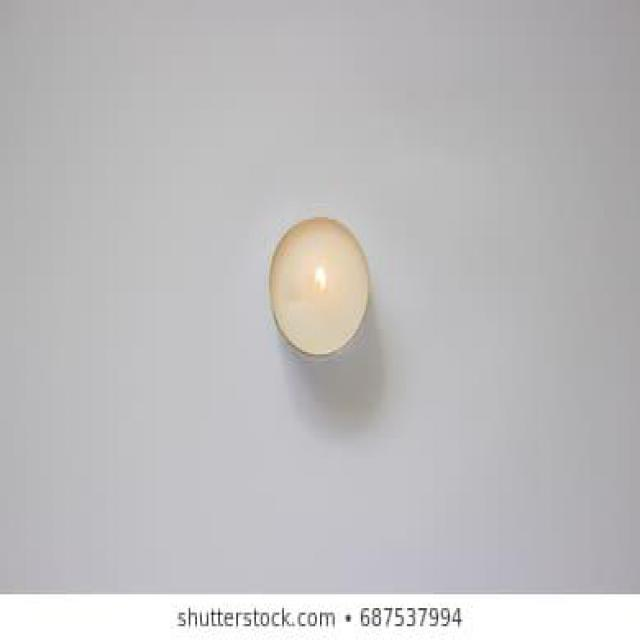Fire: (314, 265, 328, 295)
